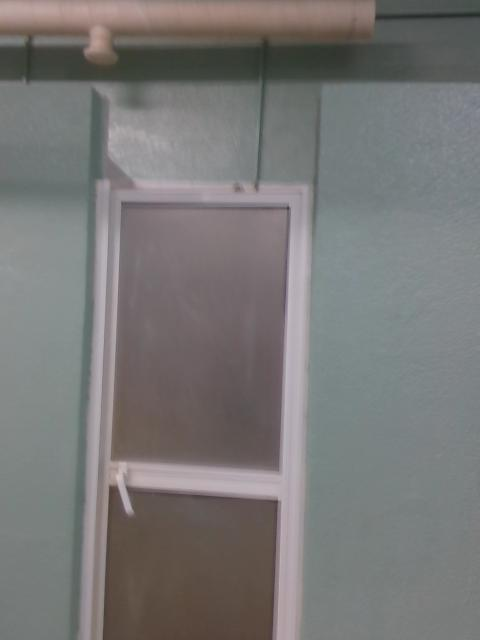door: (94, 181, 302, 640)
